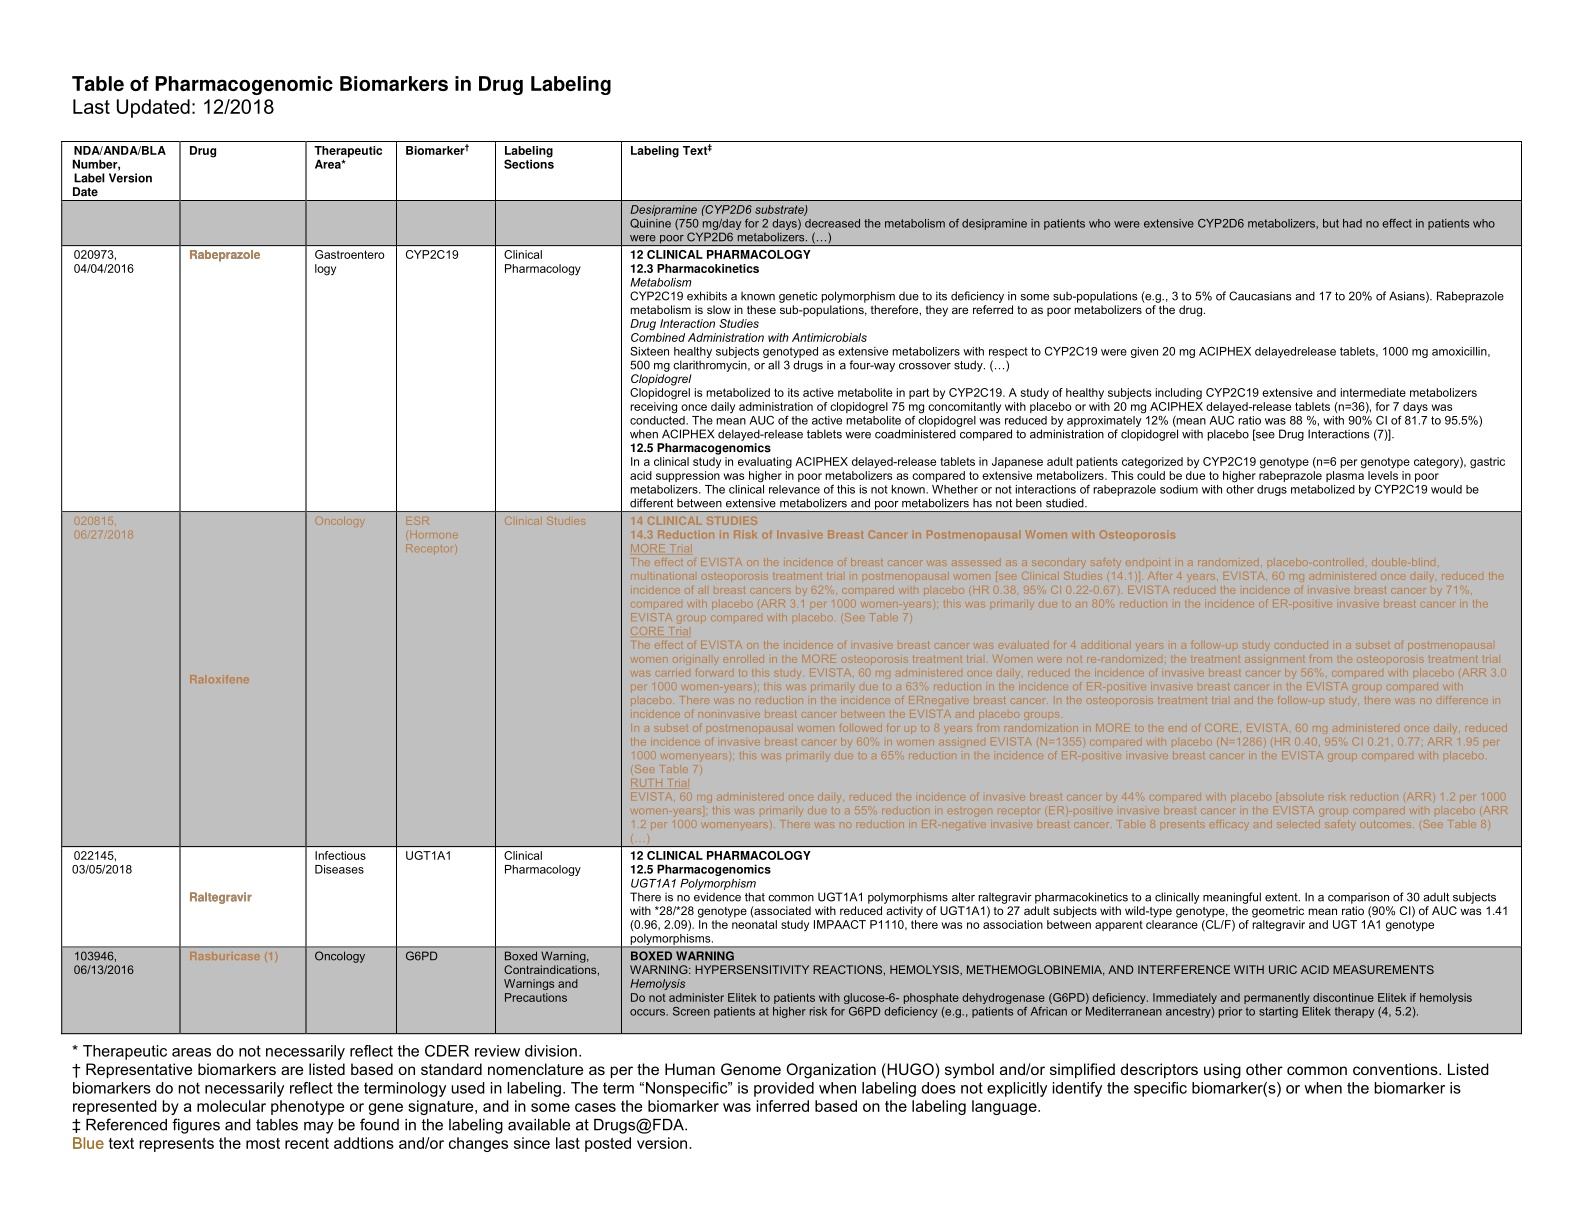full_lined: (60, 141, 1522, 1035)
